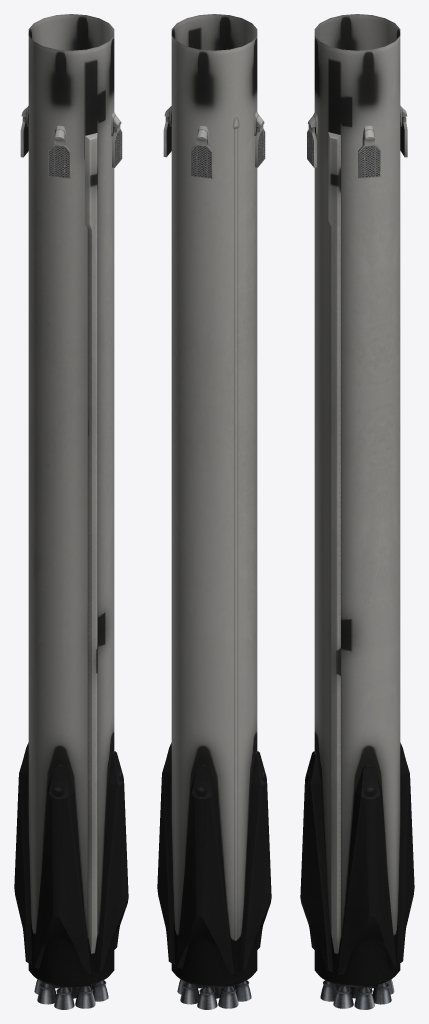
Rendered from main-booster-no-head.glb.
The picture shows the model from 3 angles, left to right: view 1: azimuth 30°, elevation 25°; view 2: azimuth 210°, elevation 25°; view 3: azimuth 330°, elevation 25°; orthographic projection.
Parts seen in each view (by area): view 1: MainBoosterNoHead; view 2: MainBoosterNoHead; view 3: MainBoosterNoHead.
Boxes of the visible parts, left/top/right/bottom form: MainBoosterNoHead: left=14, top=14, right=128, bottom=1009; MainBoosterNoHead: left=157, top=14, right=271, bottom=1009; MainBoosterNoHead: left=300, top=14, right=414, bottom=1009.
Bounding box in the file's own units: 8.12 × 89.6 × 8.12.
1 material, 1 textured.
